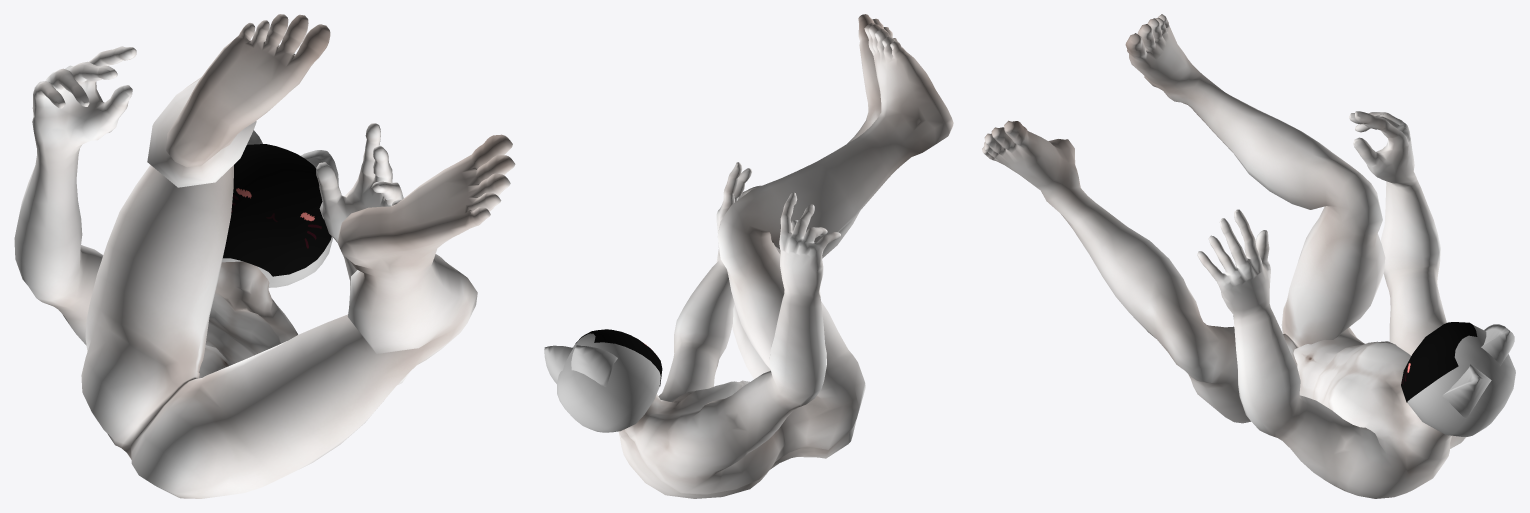
3 renders of one model, left to right at view 1: azimuth 30°, elevation 25°; view 2: azimuth 150°, elevation 25°; view 3: azimuth 270°, elevation 25°, orthographic. The views are drawn at different scales.
Visible parts, largest first — view 1: Muscle_Body, ______?001, Cat_Head; view 2: Muscle_Body, Cat_Head, ______?001; view 3: Muscle_Body, Cat_Head, ______?001.
Part boxes in pixels (<box>): Muscle_Body: <box>14,14,515,498</box>; ______?001: <box>223,144,331,276</box>; Cat_Head: <box>222,130,338,287</box>; Muscle_Body: <box>618,14,953,498</box>; Cat_Head: <box>544,333,660,432</box>; ______?001: <box>575,329,662,386</box>; Muscle_Body: <box>982,14,1466,498</box>; Cat_Head: <box>1407,324,1515,436</box>; ______?001: <box>1401,322,1477,402</box>.
Size of the model in its own units: 11.45 by 17 by 19.29.
